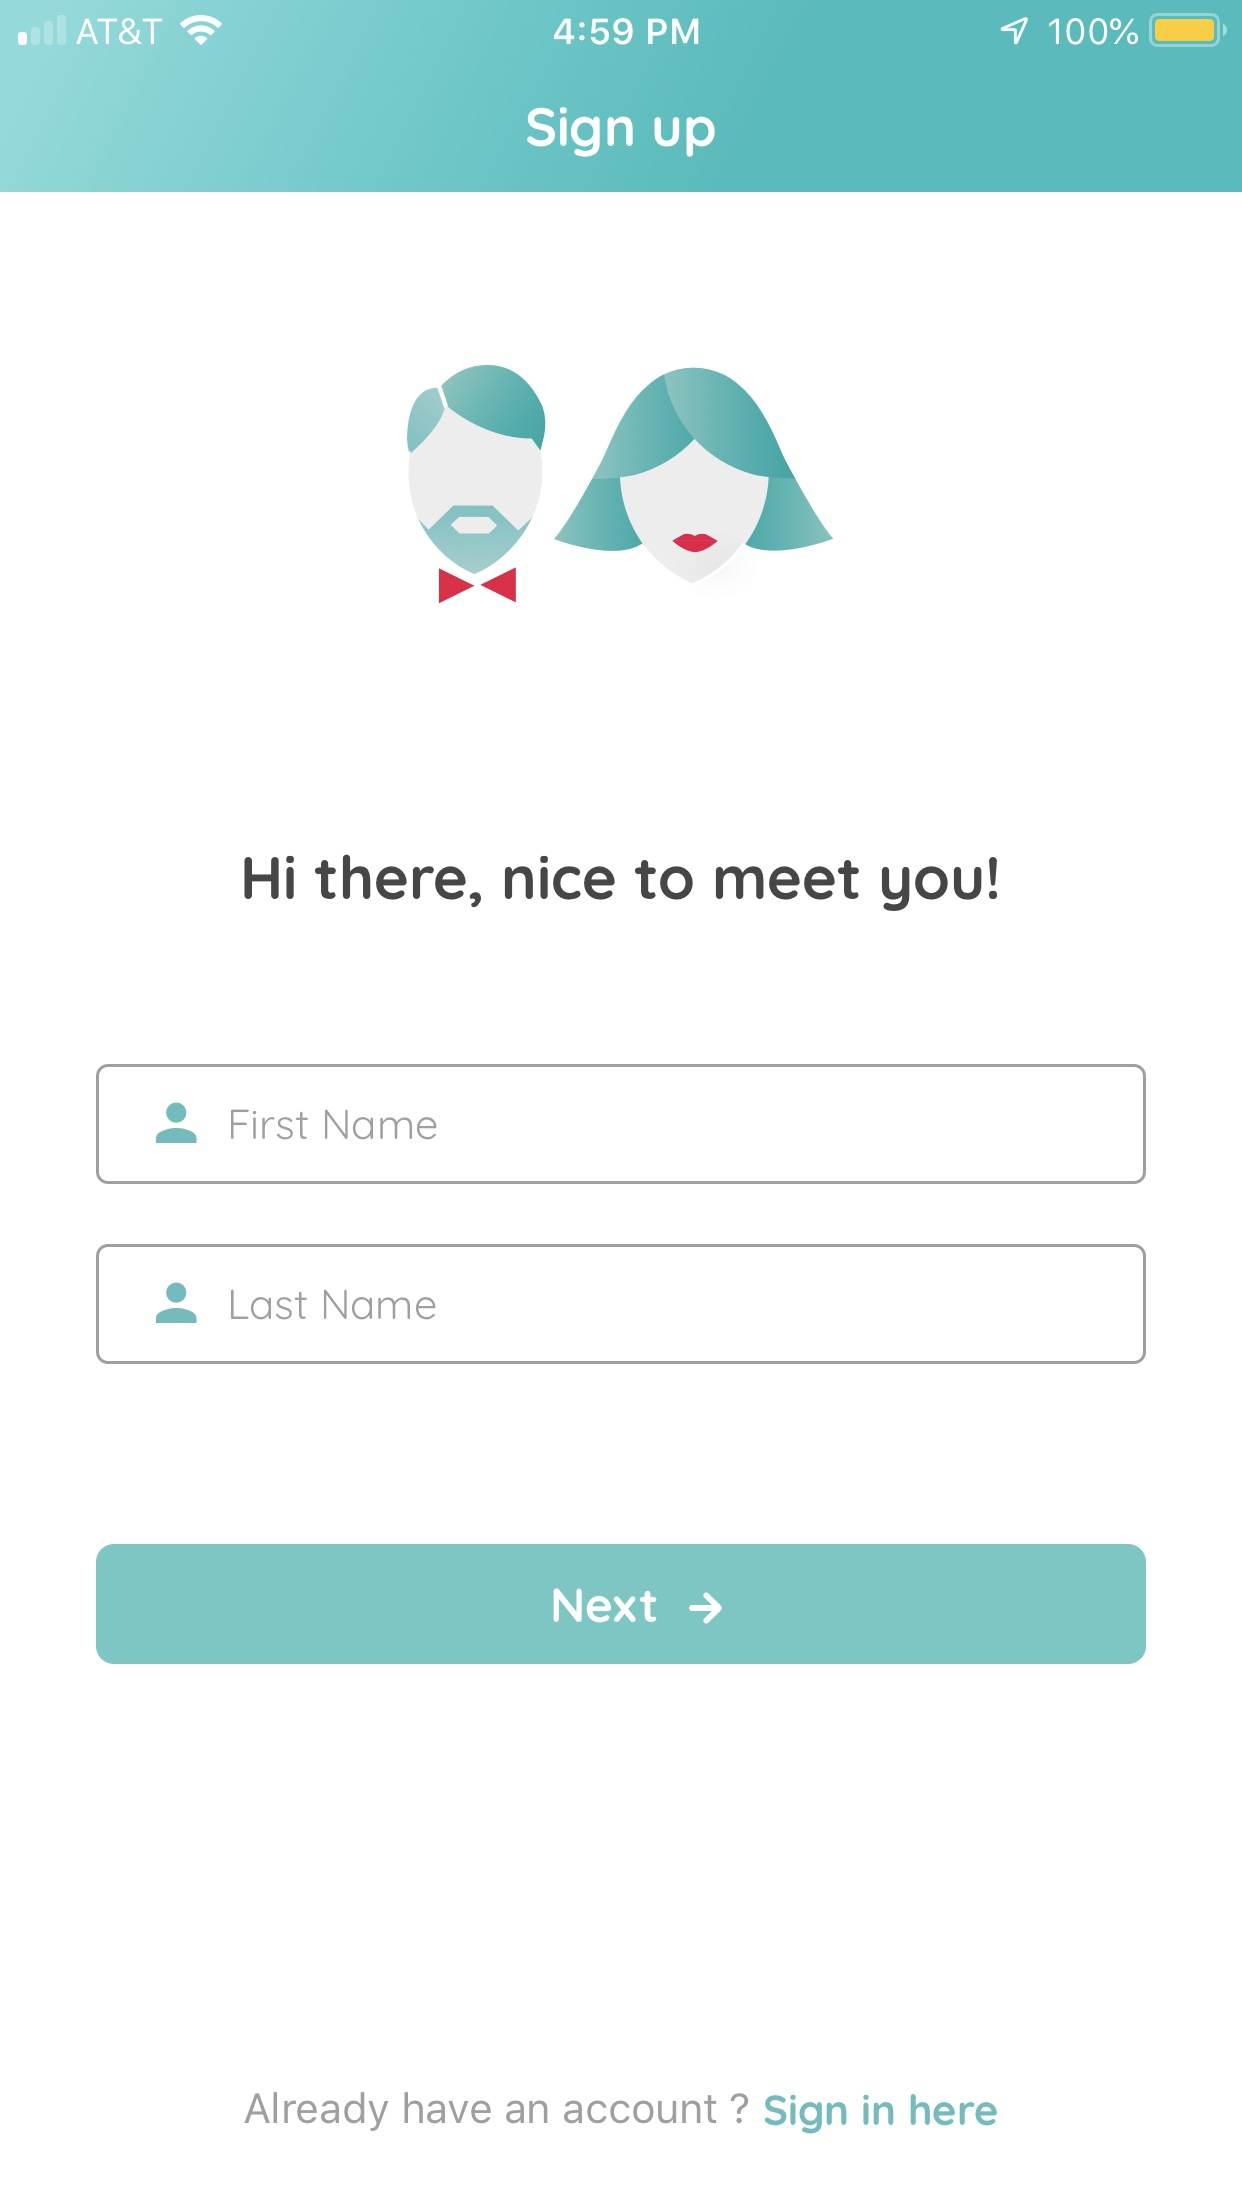EditText: (97, 1245, 1146, 1365), (97, 1065, 1146, 1184)
Icon: (158, 1102, 199, 1143), (158, 1283, 199, 1324), (688, 1591, 723, 1624)
Image: (406, 365, 834, 605)
Text: (246, 854, 998, 911), (244, 2093, 996, 2135), (528, 108, 716, 159), (232, 1110, 438, 1140), (232, 1289, 437, 1319)
TextButton: (96, 1544, 1146, 1665)
UpperTaskBar: (2, 2, 1242, 49)
